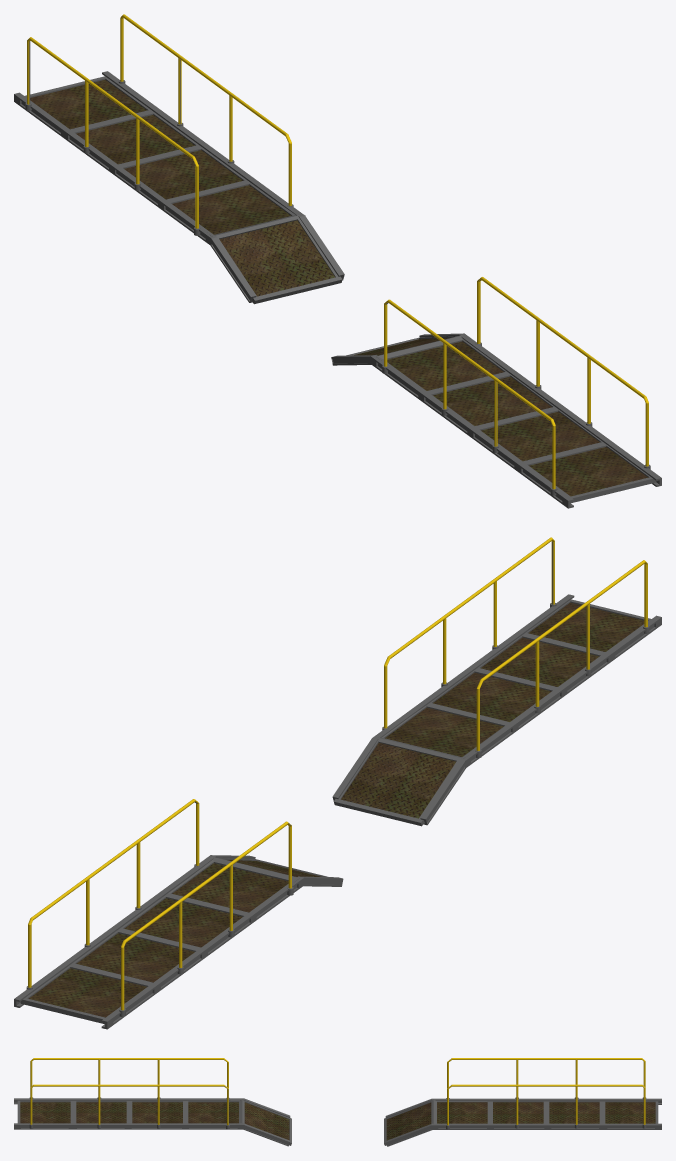
File: catwalk.glb
The picture shows the model from 3 angles, top to bottom: view 1: azimuth 30°, elevation 25°; view 2: azimuth 150°, elevation 25°; view 3: azimuth 270°, elevation 25°; orthographic projection. The views are drawn at different scales.
Visible parts, largest first — view 1: Plane.005, Cube.005, Cube, Cube.004, Plane.003, Plane.009, Plane.002, Plane.008, Cube.002, Plane, Plane.001, Plane.006 (+7 smaller); view 2: Plane.004, Cube, Cube.005, Cube.002, Plane, Plane.006, Plane.001, Plane.007, Cube.004, Plane.003, Plane.009, Plane.002 (+7 smaller); view 3: Cube.001, Cube.003, Cube, Cube.005, Plane.006, Plane.007, Plane.008, Plane.001, Plane.002, Plane.003, Plane, Plane.009 (+8 smaller).
Boxes of the visible parts, box(x1,y1,x2,y2) form: Plane.005: box(219, 220, 335, 296); Cube.005: box(25, 76, 342, 304); Cube: box(346, 335, 656, 503); Cube.004: box(14, 92, 256, 302); Plane.003: box(529, 447, 647, 496); Plane.009: box(172, 185, 290, 234); Plane.002: box(481, 411, 599, 461); Plane.008: box(124, 150, 242, 199); Cube.002: box(331, 355, 573, 508); Plane: box(387, 341, 503, 390); Plane.001: box(433, 376, 551, 425); Plane.006: box(30, 80, 146, 129); Plane.004: box(341, 743, 455, 818); Cube: box(333, 599, 651, 826); Cube.005: box(20, 857, 327, 1024); Cube.002: box(420, 615, 661, 825); Plane: box(385, 707, 503, 756); Plane.006: box(29, 968, 146, 1017); Plane.001: box(433, 672, 551, 721); Plane.007: box(76, 933, 194, 982); Cube.004: box(101, 876, 343, 1029); Plane.003: box(528, 602, 644, 651); Plane.009: box(172, 863, 288, 912); Plane.002: box(481, 637, 599, 686); Cube.001: box(14, 1123, 290, 1146); Cube.003: box(385, 1123, 661, 1146); Cube: box(17, 1099, 291, 1145); Cube.005: box(384, 1099, 658, 1145); Plane.006: box(605, 1102, 655, 1123); Plane.007: box(549, 1102, 599, 1123); Plane.008: box(493, 1102, 543, 1123); Plane.001: box(132, 1102, 182, 1123); Plane.002: box(76, 1102, 126, 1123); Plane.003: box(20, 1102, 70, 1123); Plane: box(188, 1102, 238, 1123); Plane.009: box(437, 1102, 487, 1123).
Bounding box in the file's own units: 5.96 × 6.12 × 57.84.
Materials: 14 (10 with a texture image).
